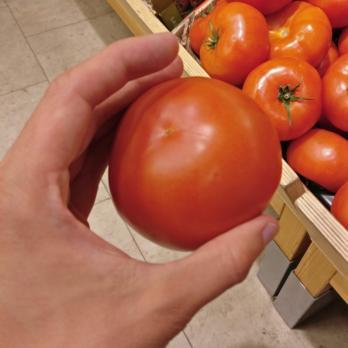Tomato: (192, 0, 348, 207), (104, 77, 284, 251)
